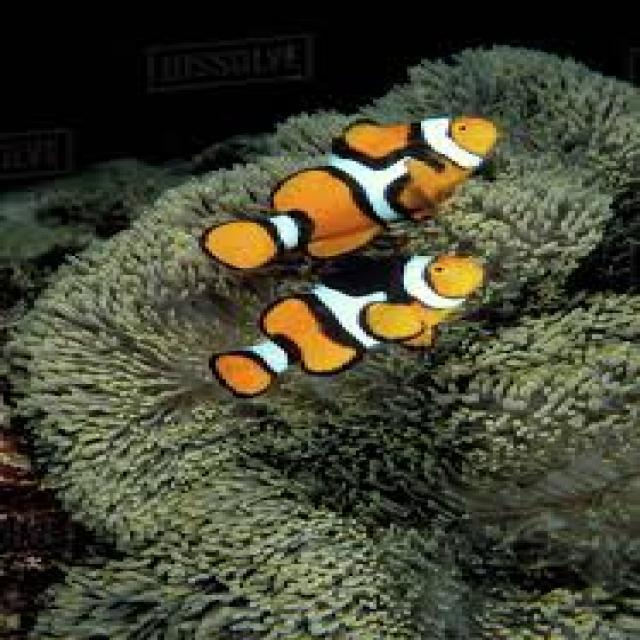ClownFish: (197, 113, 496, 273), (209, 255, 487, 396)
